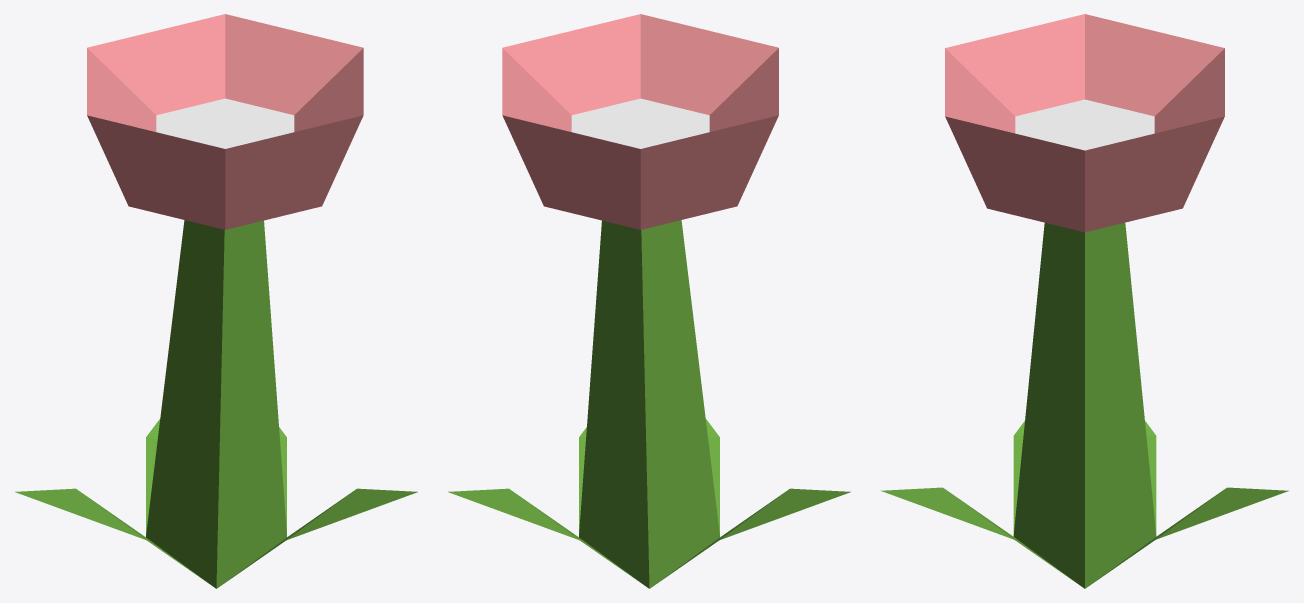
Rendered from flower_redC.glb.
3 renders of one model, left to right at view 1: azimuth 30°, elevation 25°; view 2: azimuth 150°, elevation 25°; view 3: azimuth 270°, elevation 25°, orthographic.
Parts seen in each view (by area): view 1: flower_redC; view 2: flower_redC; view 3: flower_redC.
Boxes of the visible parts, x1,y1,x2,y2 form: flower_redC: (15,14,417,588); flower_redC: (448,14,850,588); flower_redC: (881,14,1288,588).
Size of the model in its own units: 0.1806 by 0.2325 by 0.1811.
